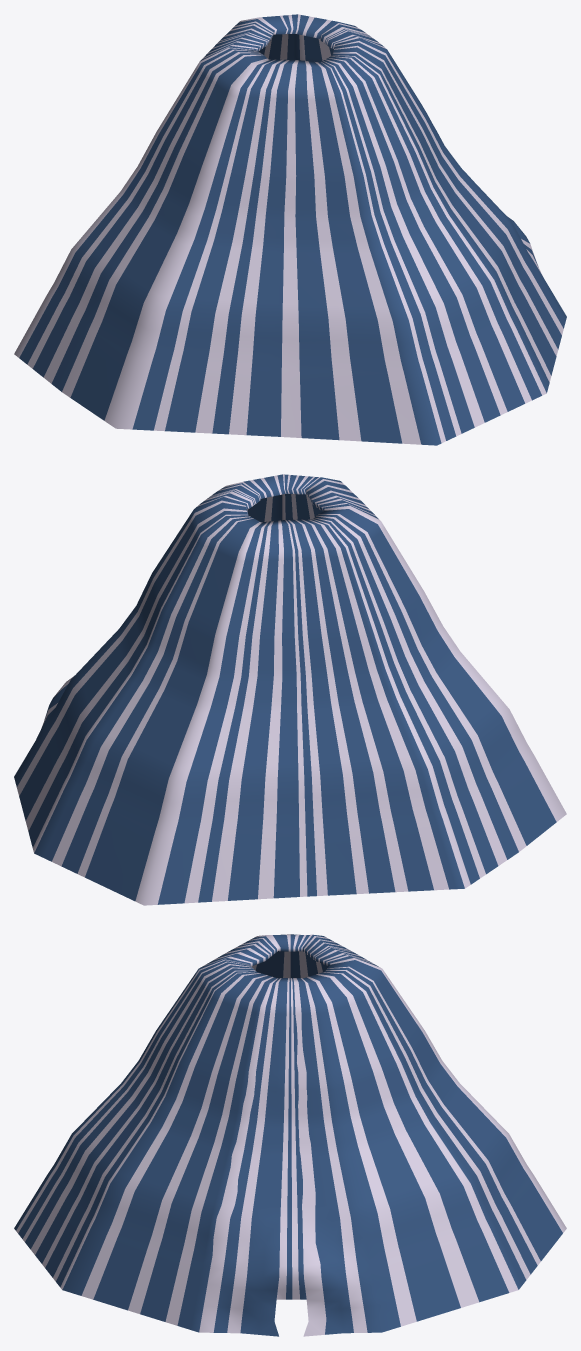
Rendered from matidVolcano.fbx.
3 renders of one model, top to bottom at view 1: azimuth 30°, elevation 25°; view 2: azimuth 150°, elevation 25°; view 3: azimuth 270°, elevation 25°, orthographic. The views are drawn at different scales.
Visible parts, largest first — view 1: ExteriorValcano; view 2: ExteriorValcano; view 3: ExteriorValcano.
Part boxes in pixels (x1=…): ExteriorValcano: x1=14, y1=14, x2=566, y2=445; ExteriorValcano: x1=14, y1=474, x2=566, y2=905; ExteriorValcano: x1=14, y1=934, x2=566, y2=1336.
Size of the model in its own units: 180 by 108 by 199.
